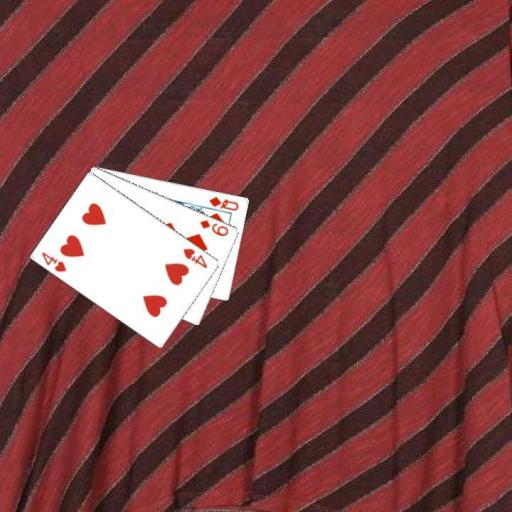4H: (39, 249, 69, 274), (180, 245, 209, 270)
9D: (197, 216, 230, 238)
QD: (207, 193, 241, 212)
